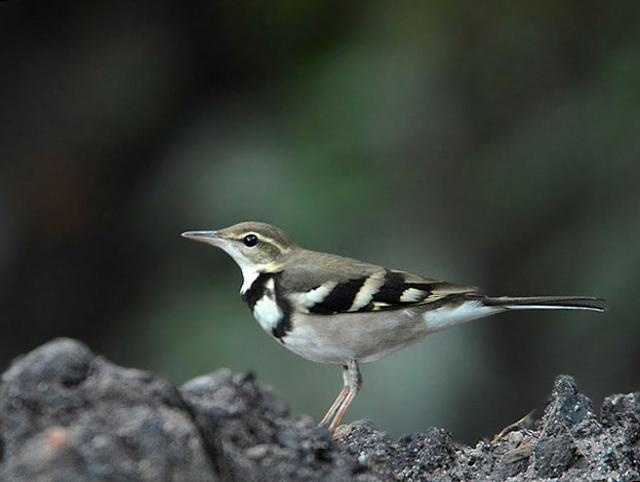wagtail: (180, 193, 504, 420)
